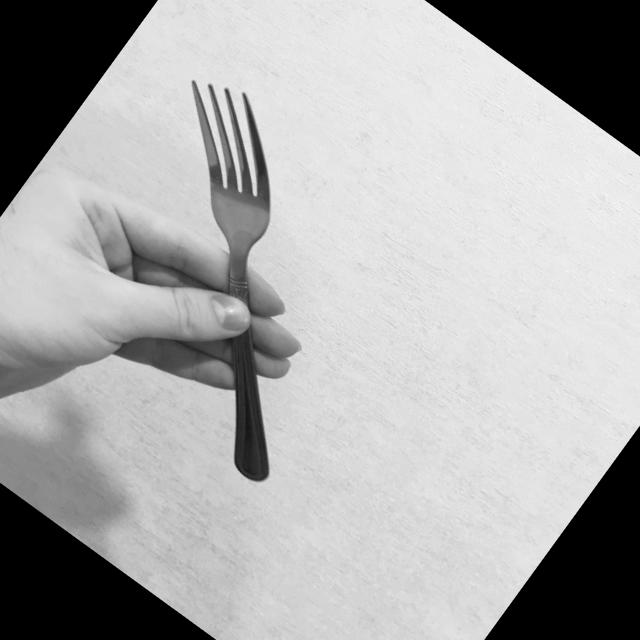fork: (13, 58, 446, 493)
